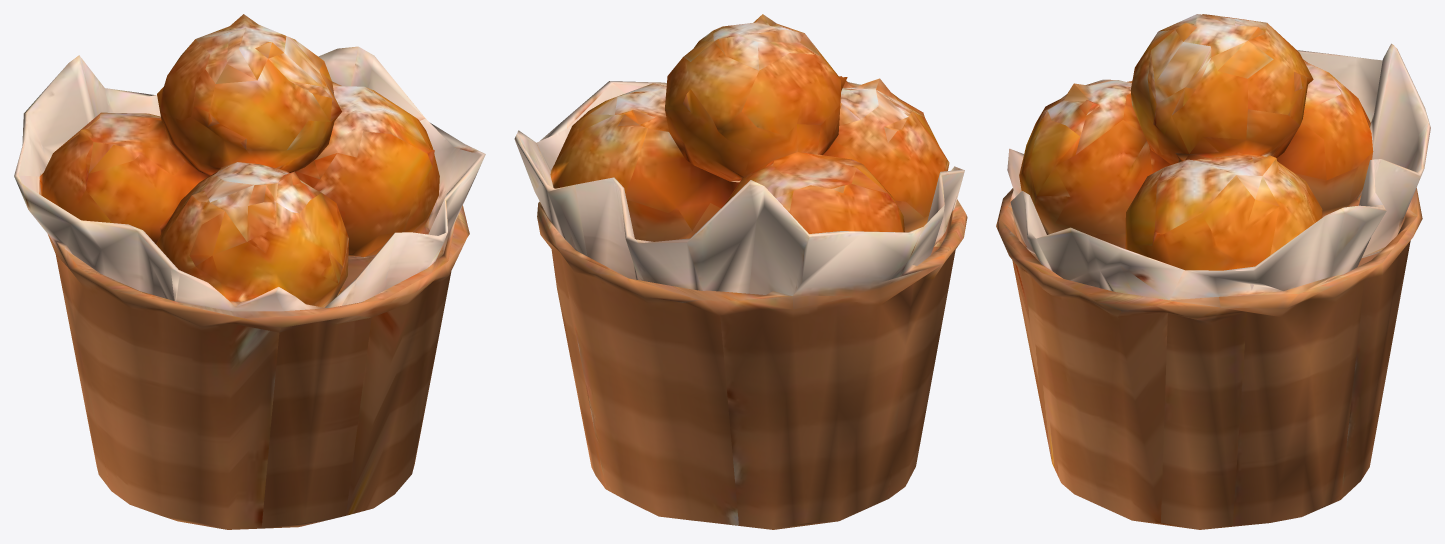
3 renders of one model, left to right at view 1: azimuth 30°, elevation 25°; view 2: azimuth 150°, elevation 25°; view 3: azimuth 270°, elevation 25°, orthographic.
Parts seen in each view (by area): view 1: cheese-balls; view 2: cheese-balls; view 3: cheese-balls.
Part boxes in pixels (bbox=[...]): cheese-balls: bbox=[14, 14, 485, 529]; cheese-balls: bbox=[514, 14, 967, 529]; cheese-balls: bbox=[996, 14, 1430, 529].
Bounding box in the file's own units: 0.1537 × 0.1602 × 0.1433.
Materials: 1 (1 with a texture image).
